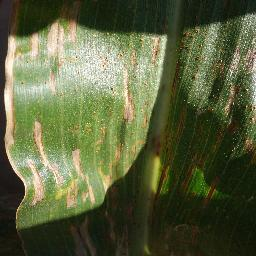Gray_Leaf_Spot: (116, 0, 253, 141), (110, 140, 255, 256), (0, 0, 24, 167), (25, 119, 61, 211), (61, 143, 90, 256), (27, 0, 79, 62), (87, 12, 114, 83), (96, 150, 110, 245), (89, 121, 110, 152), (45, 62, 60, 98), (68, 123, 82, 139)
